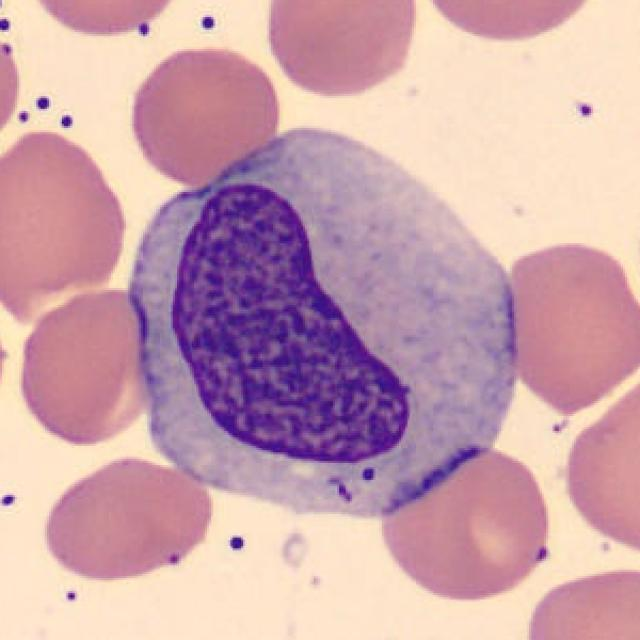White Blood Cell: (130, 130, 512, 513)
